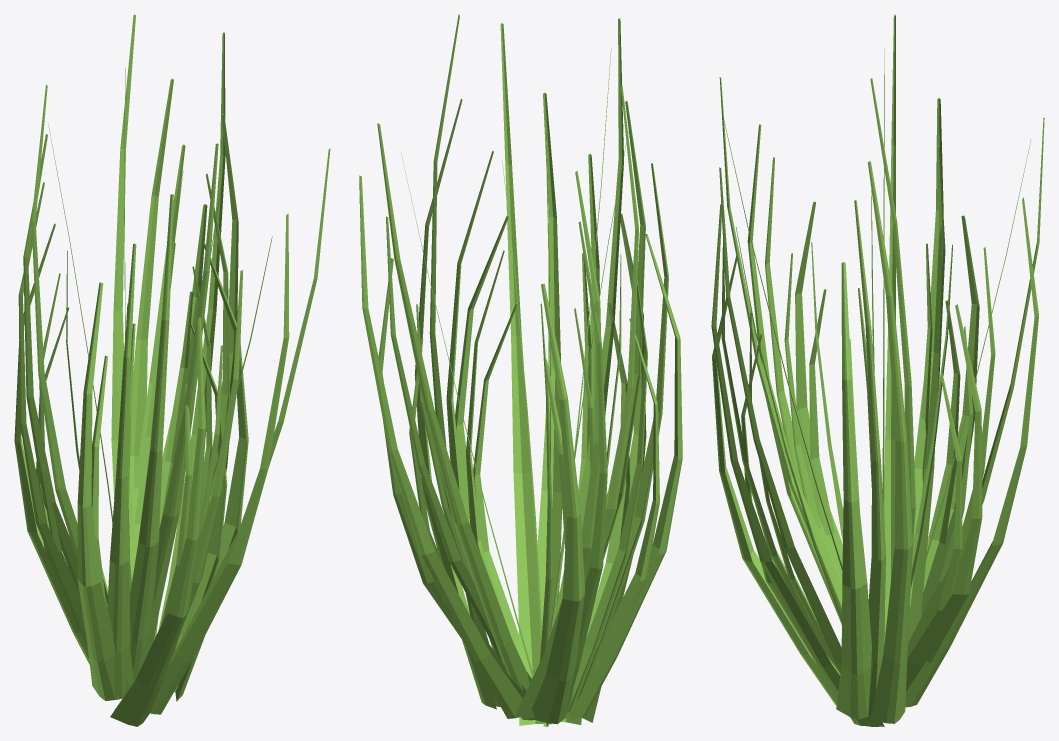
The model's file is grass 1.fbx.
3 renders of one model, left to right at view 1: azimuth 30°, elevation 25°; view 2: azimuth 150°, elevation 25°; view 3: azimuth 270°, elevation 25°, orthographic. The views are drawn at different scales.
Visible parts, largest first — view 1: Plane.032; view 2: Plane.032; view 3: Plane.032.
Part boxes in pixels (bbox=[...]): Plane.032: bbox=[14, 14, 330, 726]; Plane.032: bbox=[359, 14, 682, 726]; Plane.032: bbox=[711, 14, 1044, 726].
Bounding box in the file's own units: 252 × 738 × 326.
